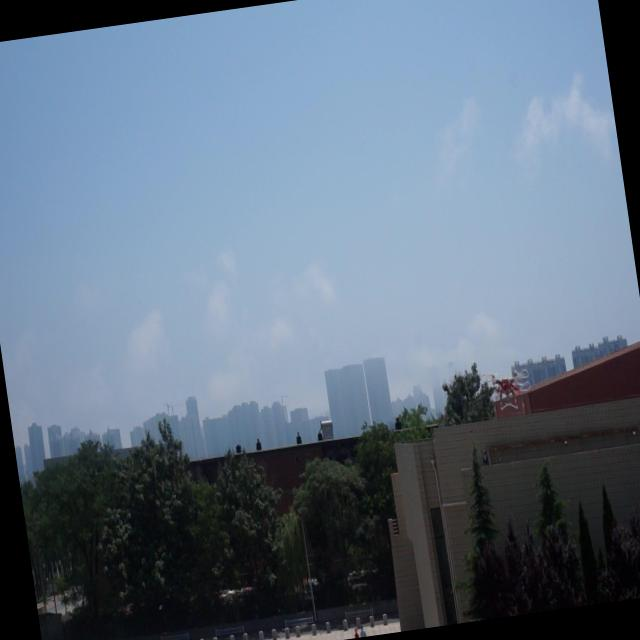drone: (478, 364, 536, 414)
